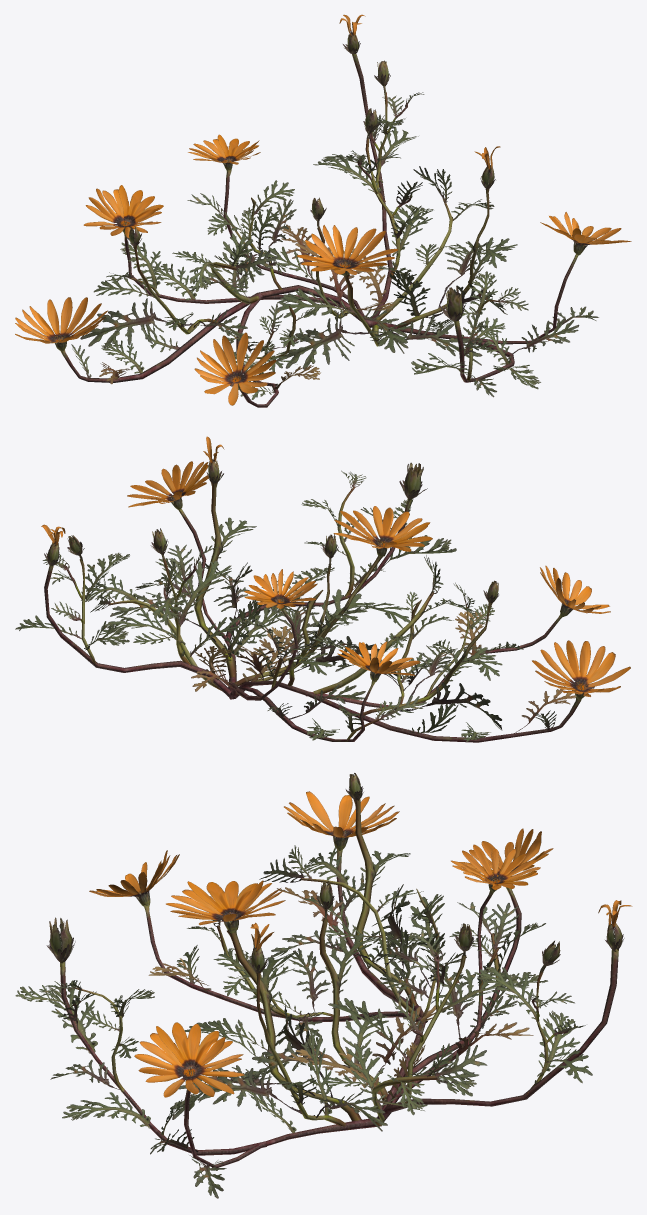
File: flower_ursinia_04.glb
The picture shows the model from 3 angles, top to bottom: view 1: azimuth 30°, elevation 25°; view 2: azimuth 150°, elevation 25°; view 3: azimuth 270°, elevation 25°; orthographic projection. The views are drawn at different scales.
Parts seen in each view (by area): view 1: flower_ursinia; view 2: flower_ursinia; view 3: flower_ursinia.
Part boxes in pixels (bbox=[...]): flower_ursinia: bbox=[15, 14, 631, 407]; flower_ursinia: bbox=[15, 436, 630, 742]; flower_ursinia: bbox=[15, 773, 632, 1198].
Size of the model in its own units: 0.4254 by 0.1642 by 0.3433.
1 material, 1 textured.
